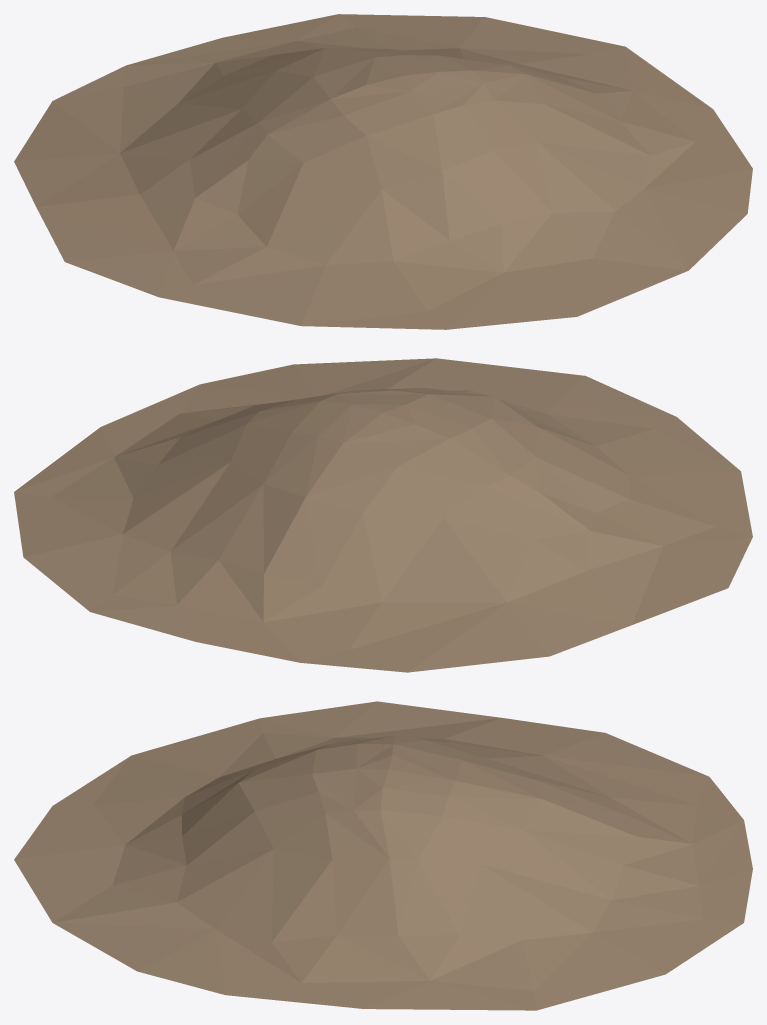
File: SM_Env_Ground_Hill_01.glb
3 views of the same model, one above another, from view 1: azimuth 30°, elevation 25°; view 2: azimuth 150°, elevation 25°; view 3: azimuth 270°, elevation 25° (orthographic).
Parts seen in each view (by area): view 1: SM_Env_Ground_Hill_01; view 2: SM_Env_Ground_Hill_01; view 3: SM_Env_Ground_Hill_01.
Boxes of the visible parts, left/top/right/bottom form: SM_Env_Ground_Hill_01: left=14, top=14, right=752, bottom=329; SM_Env_Ground_Hill_01: left=14, top=358, right=752, bottom=672; SM_Env_Ground_Hill_01: left=14, top=701, right=752, bottom=1010.
Bounding box in the file's own units: 11.07 × 1.62 × 11.19.
Materials: 1 (1 with a texture image).
